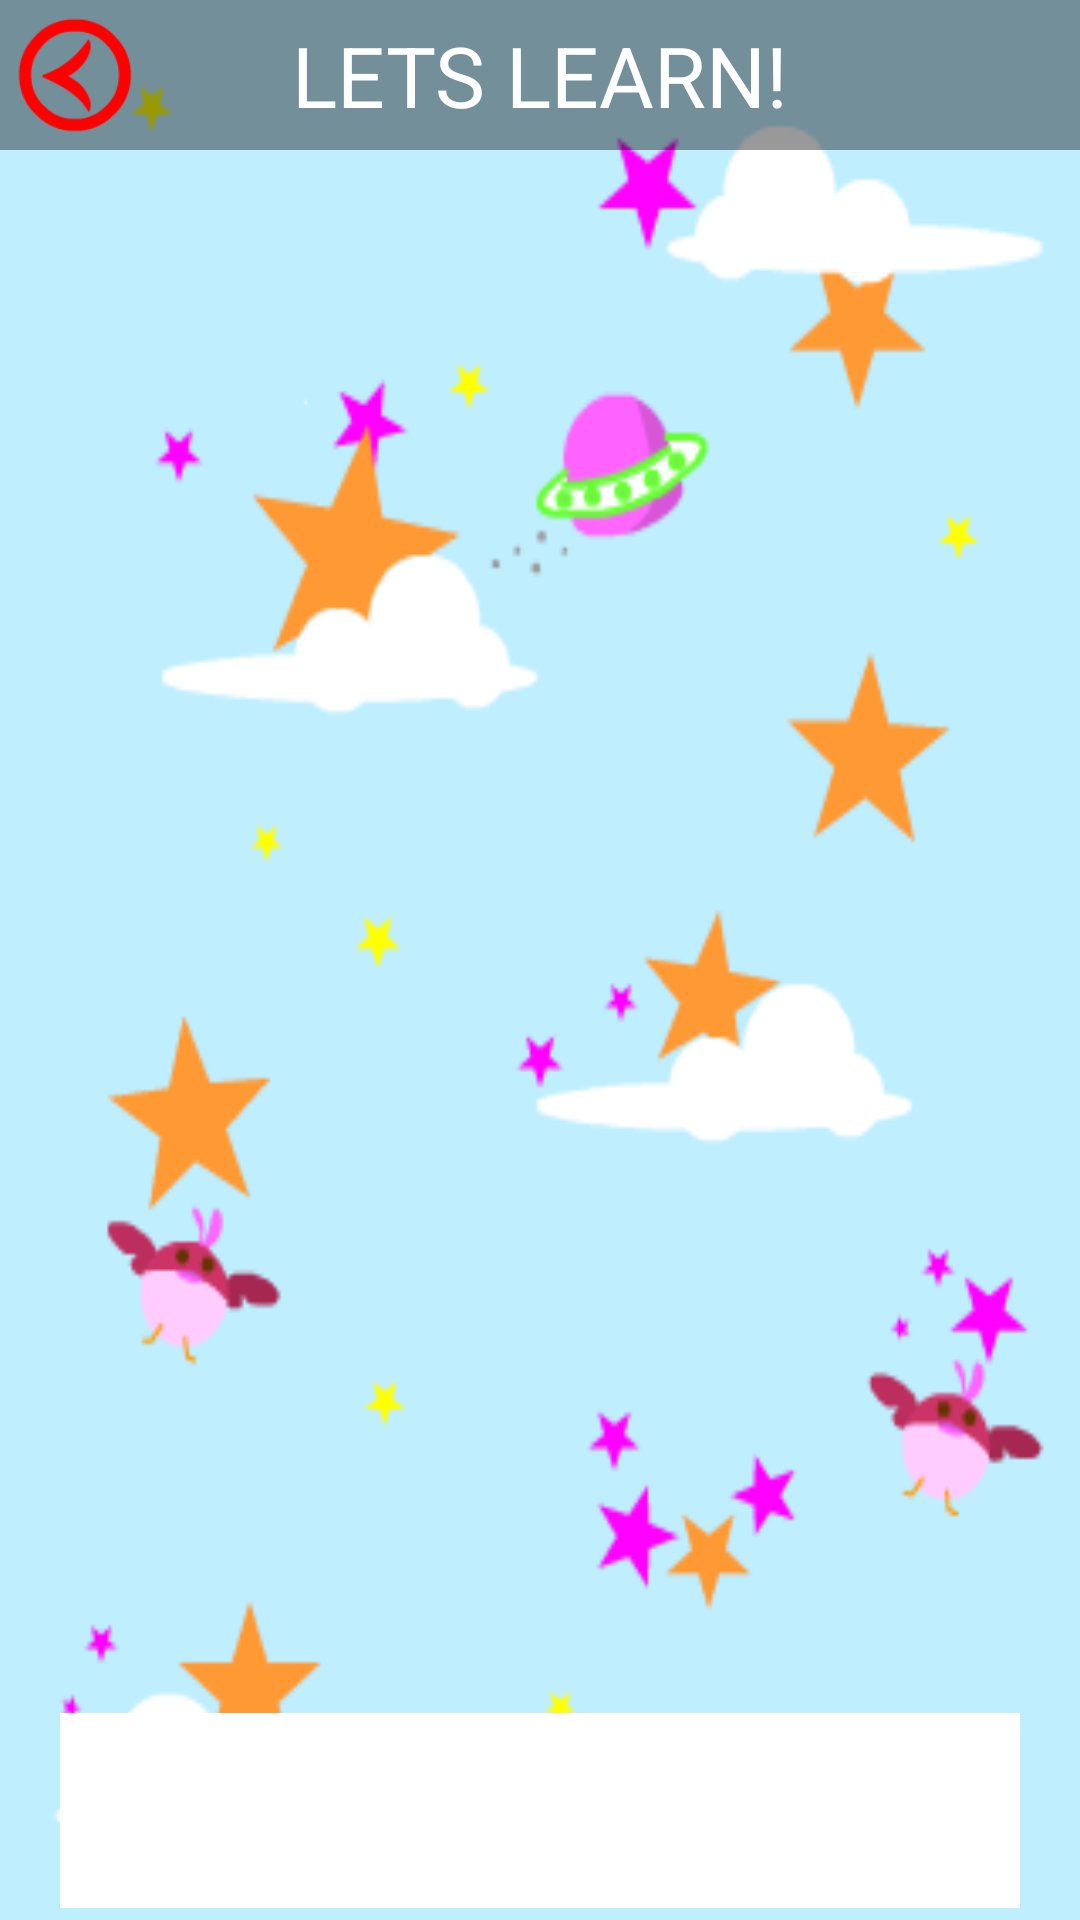

Icons on this 1080 × 1920 Android screen, each with its box as [x1,y1,x2,y2]:
arrow back: [18,19,132,132]
